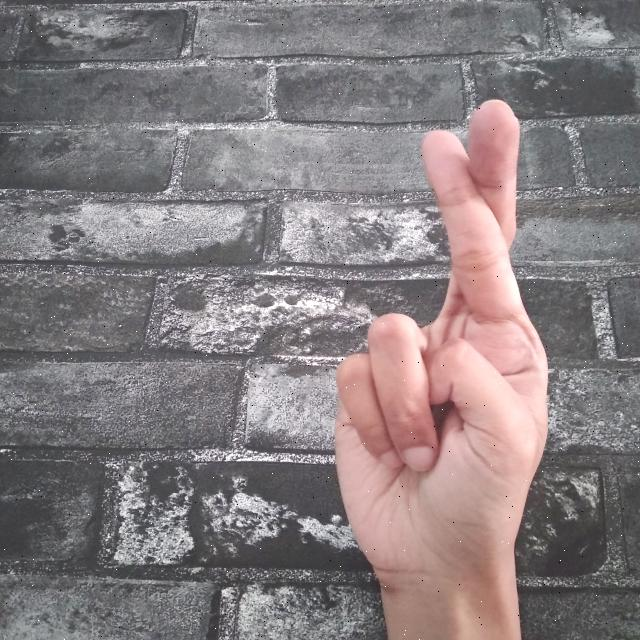R: (320, 88, 559, 640)
